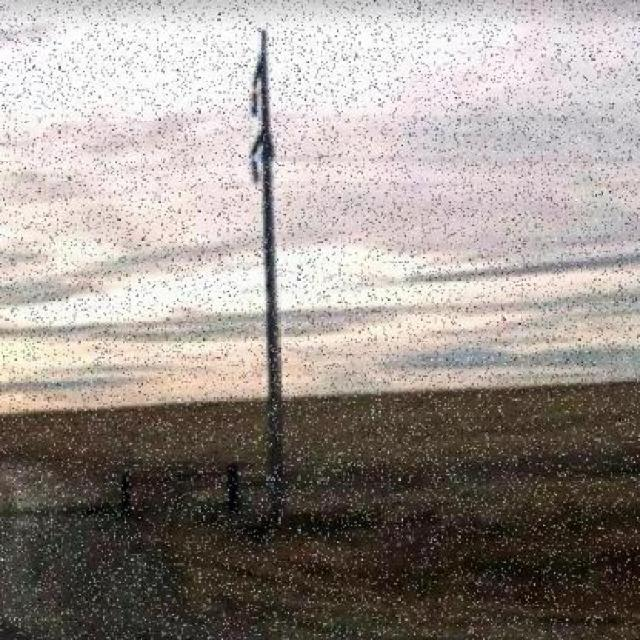pole: (210, 9, 324, 543)
